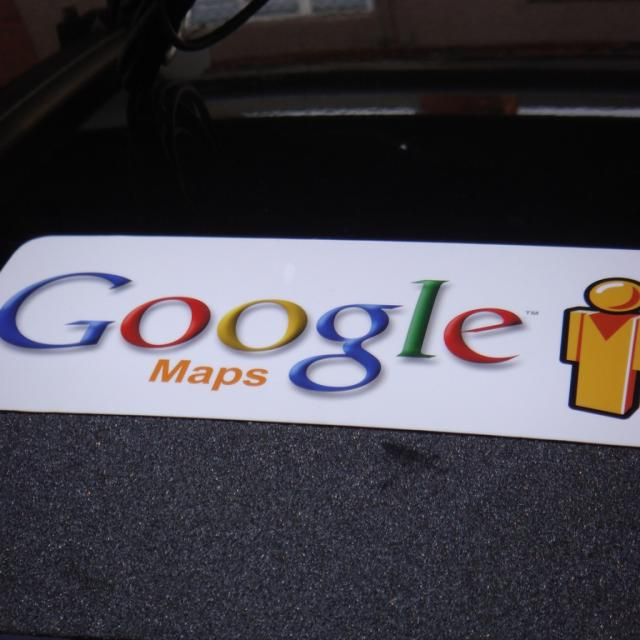google: (2, 260, 530, 405)
